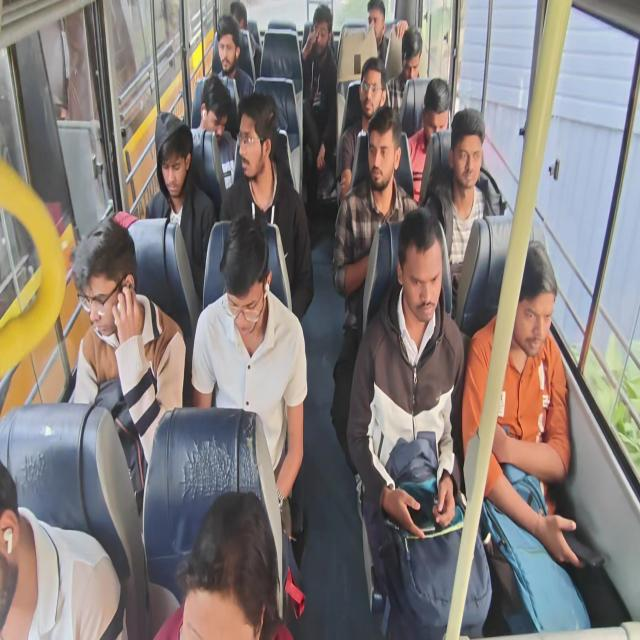person: (185, 495, 264, 640), (510, 252, 568, 353), (80, 236, 130, 346), (215, 231, 268, 331), (0, 471, 30, 629), (406, 232, 442, 321), (240, 102, 276, 180), (367, 116, 402, 196), (450, 131, 493, 189), (199, 78, 229, 140), (157, 125, 183, 195), (360, 64, 387, 125), (210, 30, 242, 80), (424, 87, 449, 143), (309, 3, 333, 57), (220, 4, 257, 30), (401, 41, 421, 88), (366, 6, 388, 47)
